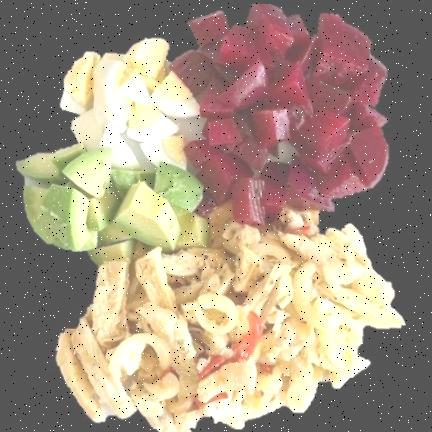beet: (171, 4, 389, 225)
chicken: (57, 225, 404, 431)
egg: (61, 38, 199, 170)
green_vegetables: (17, 145, 210, 265)
